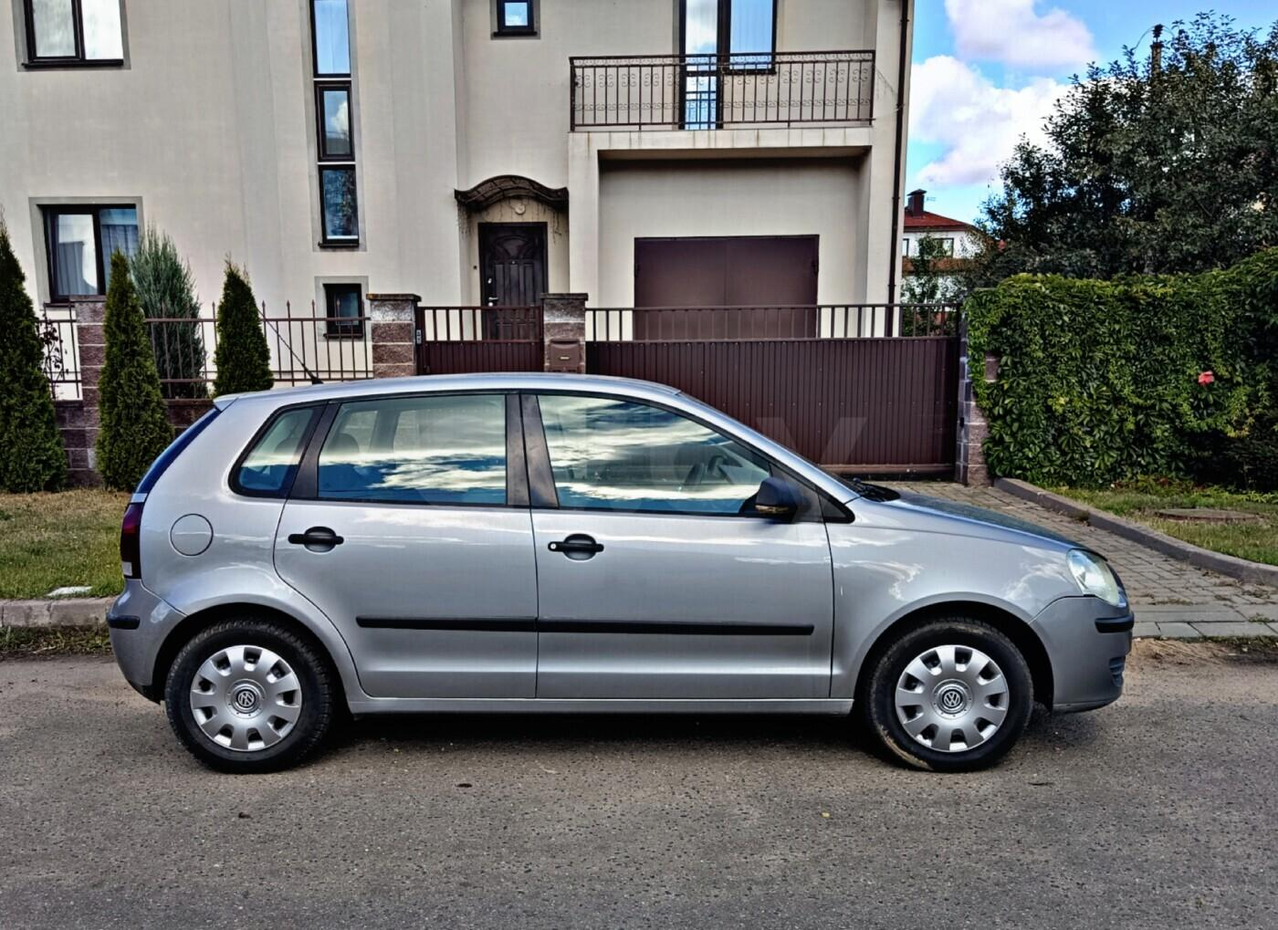Polo_2005-2009: (108, 360, 1141, 811)
